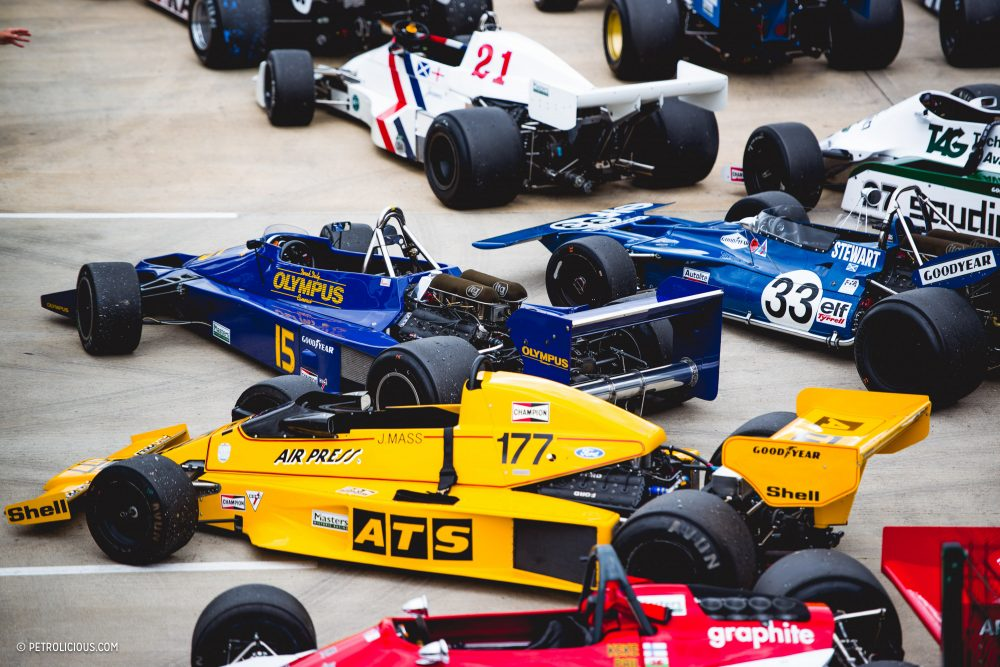f1_car: (1, 334, 943, 596), (25, 196, 746, 437), (460, 170, 1000, 404), (239, 7, 738, 212)
